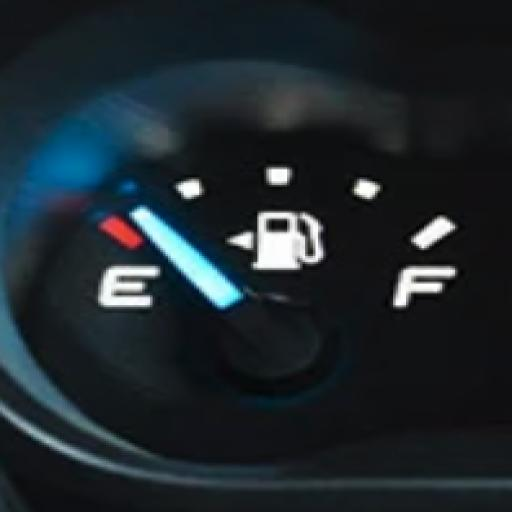empty: (95, 258, 164, 318)
fuel_icon: (250, 204, 322, 276)
full: (390, 259, 461, 311)
guage_area: (34, 142, 473, 416)
needle_center: (209, 284, 335, 394)
needle_tip: (126, 205, 182, 247)
